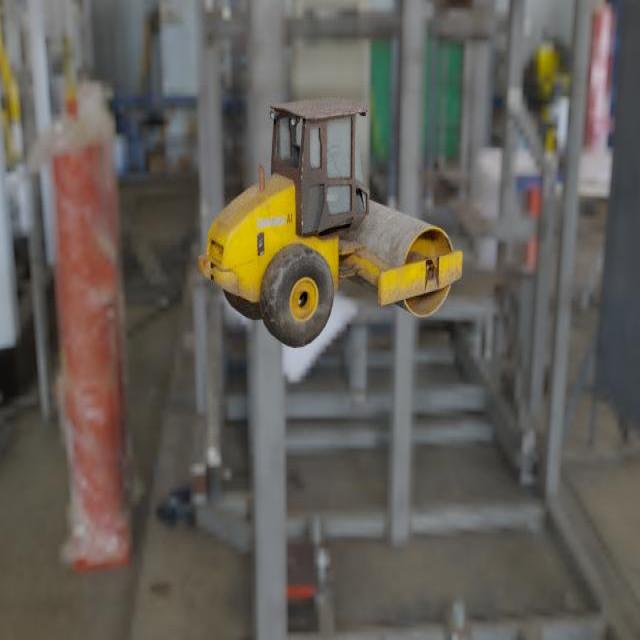Roller: (197, 96, 462, 348)
